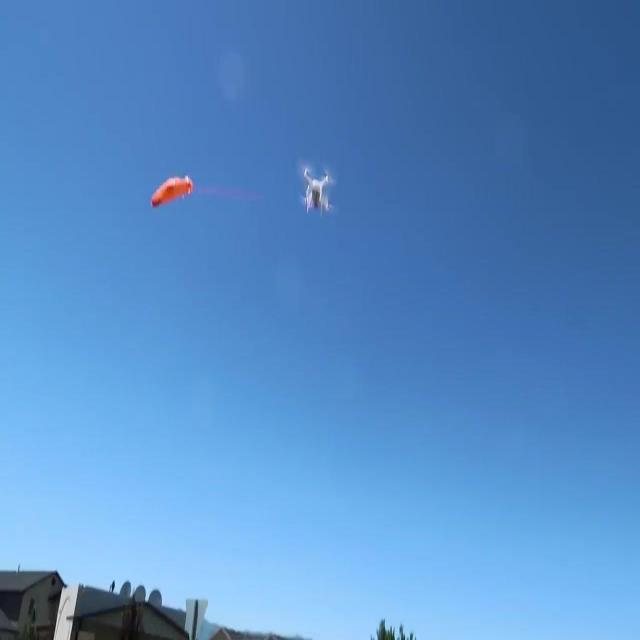drone: (301, 164, 333, 219)
